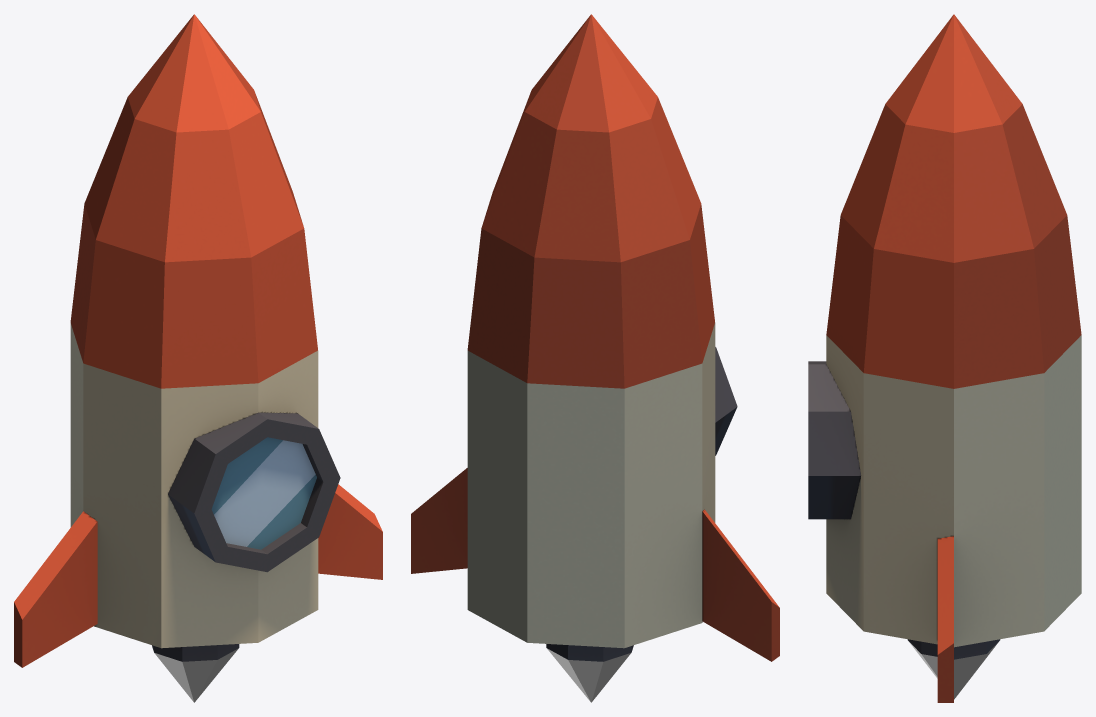
3 renders of one model, left to right at view 1: azimuth 30°, elevation 25°; view 2: azimuth 150°, elevation 25°; view 3: azimuth 270°, elevation 25°, orthographic.
Parts seen in each view (by area): view 1: rocket_ship; view 2: rocket_ship; view 3: rocket_ship.
Part boxes in pixels (<box>): rocket_ship: <box>14,14,382,702</box>; rocket_ship: <box>411,14,779,702</box>; rocket_ship: <box>808,14,1081,702</box>.
Size of the model in its own units: 1.47 by 2.69 by 0.9705.
Materials: 1 (1 with a texture image).
